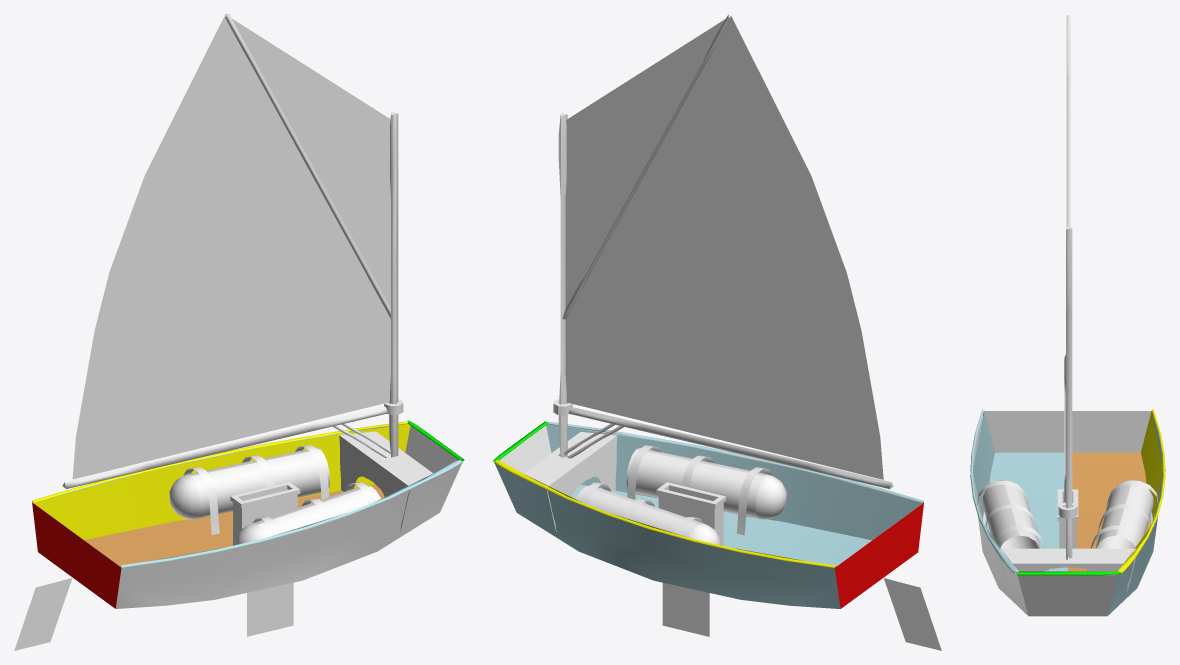
The model's file is sceneoptimist.gltf.
3 renders of one model, left to right at view 1: azimuth 30°, elevation 25°; view 2: azimuth 150°, elevation 25°; view 3: azimuth 270°, elevation 25°, orthographic. The views are drawn at different scales.
Visible parts, largest first — view 1: Brep -- 1726530a1ff8300f9b61d3c2b890c316, BS SURF -- dd2ef8909a98f47a0441f240473f76a4, Brep -- 303c462e915f5f1e5215a6daa0378fc3, Brep -- 3fbd59e8ebfd00fb739f6c2b777dbd46, Brep -- a97687364e5ec81d2a5f6b44b3f666b1, Brep -- ac89ad3ee61aae2280265972879a6c03, Brep -- 8185ad93e911966318216136bc611b5b, Brep -- 055ff06deee2393a410a4a10c68574e8, Brep -- f177b918c9e2f707ae558db99cdebc34, Brep -- 1282156969f5216a3994dd96fa133367, Brep -- 54c8af66354c1ba4ff25ff177b107544, Brep -- 1142a9d575121b54db16120a9d4a0c1b (+10 smaller); view 2: Brep -- 1726530a1ff8300f9b61d3c2b890c316, BS SURF -- 2a72319cbdd2b8e1d5f4796d0790f02d, Brep -- b747d5f894131ec5e0f1d473f607bb5e, Brep -- 7e91076c955bfeb726b53185a5e373aa, Brep -- 54c8af66354c1ba4ff25ff177b107544, Brep -- ac89ad3ee61aae2280265972879a6c03, Brep -- 055ff06deee2393a410a4a10c68574e8, Brep -- 8185ad93e911966318216136bc611b5b, Brep -- f177b918c9e2f707ae558db99cdebc34, Brep -- 1282156969f5216a3994dd96fa133367, Brep -- a97687364e5ec81d2a5f6b44b3f666b1, Brep -- 4d19c8d16a9f167767c34f24fc54993c (+10 smaller); view 3: Brep -- d18402919ab626ac1bbe30a8847975c2, Brep -- 7e91076c955bfeb726b53185a5e373aa, Brep -- 3fbd59e8ebfd00fb739f6c2b777dbd46, Brep -- 39485097b6c1c5450d1fc3ee69e41d3f, Brep -- 54c8af66354c1ba4ff25ff177b107544, Brep -- a97687364e5ec81d2a5f6b44b3f666b1, Brep -- 8185ad93e911966318216136bc611b5b, Brep -- 605cf1a4d3060b8af2e0c32c5fa421a9, Brep -- a41a5ac177a26ea32427c0a5125c2619, BS SURF -- dd2ef8909a98f47a0441f240473f76a4, BS SURF -- 2a72319cbdd2b8e1d5f4796d0790f02d, Brep -- 303c462e915f5f1e5215a6daa0378fc3 (+8 smaller).
Boxes of the visible parts, x1,y1,x2,y2 form: Brep -- 1726530a1ff8300f9b61d3c2b890c316: (72, 14, 390, 479); BS SURF -- dd2ef8909a98f47a0441f240473f76a4: (115, 461, 462, 608); Brep -- 303c462e915f5f1e5215a6daa0378fc3: (34, 424, 410, 539); Brep -- 3fbd59e8ebfd00fb739f6c2b777dbd46: (84, 484, 384, 566); Brep -- a97687364e5ec81d2a5f6b44b3f666b1: (188, 447, 330, 518); Brep -- ac89ad3ee61aae2280265972879a6c03: (32, 502, 121, 608); Brep -- 8185ad93e911966318216136bc611b5b: (389, 112, 398, 457); Brep -- 055ff06deee2393a410a4a10c68574e8: (62, 406, 387, 488); Brep -- f177b918c9e2f707ae558db99cdebc34: (14, 578, 72, 650); Brep -- 1282156969f5216a3994dd96fa133367: (247, 582, 293, 636); Brep -- 54c8af66354c1ba4ff25ff177b107544: (253, 485, 380, 537); Brep -- 1142a9d575121b54db16120a9d4a0c1b: (225, 14, 390, 318); Brep -- 1726530a1ff8300f9b61d3c2b890c316: (565, 15, 883, 479); BS SURF -- 2a72319cbdd2b8e1d5f4796d0790f02d: (494, 463, 840, 608); Brep -- b747d5f894131ec5e0f1d473f607bb5e: (546, 424, 922, 540); Brep -- 7e91076c955bfeb726b53185a5e373aa: (572, 485, 871, 566); Brep -- 54c8af66354c1ba4ff25ff177b107544: (626, 447, 768, 518); Brep -- ac89ad3ee61aae2280265972879a6c03: (835, 503, 923, 608); Brep -- 055ff06deee2393a410a4a10c68574e8: (568, 407, 893, 489); Brep -- 8185ad93e911966318216136bc611b5b: (558, 113, 567, 457); Brep -- f177b918c9e2f707ae558db99cdebc34: (884, 578, 941, 650); Brep -- 1282156969f5216a3994dd96fa133367: (662, 583, 709, 636); Brep -- a97687364e5ec81d2a5f6b44b3f666b1: (575, 485, 703, 537); Brep -- 4d19c8d16a9f167767c34f24fc54993c: (547, 436, 617, 531); Brep -- d18402919ab626ac1bbe30a8847975c2: (984, 411, 1151, 452); Brep -- 7e91076c955bfeb726b53185a5e373aa: (984, 452, 1067, 571); Brep -- 3fbd59e8ebfd00fb739f6c2b777dbd46: (1068, 452, 1151, 571); Brep -- 39485097b6c1c5450d1fc3ee69e41d3f: (1017, 575, 1118, 616); Brep -- 54c8af66354c1ba4ff25ff177b107544: (982, 484, 1040, 548); Brep -- a97687364e5ec81d2a5f6b44b3f666b1: (1095, 484, 1153, 548); Brep -- 8185ad93e911966318216136bc611b5b: (1066, 226, 1072, 559); Brep -- 605cf1a4d3060b8af2e0c32c5fa421a9: (1000, 548, 1135, 563); Brep -- a41a5ac177a26ea32427c0a5125c2619: (1018, 575, 1117, 616); BS SURF -- dd2ef8909a98f47a0441f240473f76a4: (970, 415, 1028, 615); BS SURF -- 2a72319cbdd2b8e1d5f4796d0790f02d: (1107, 415, 1165, 615); Brep -- 303c462e915f5f1e5215a6daa0378fc3: (1116, 411, 1162, 575).
Bounding box in the file's own units: 2.72 × 3.85 × 1.13.
